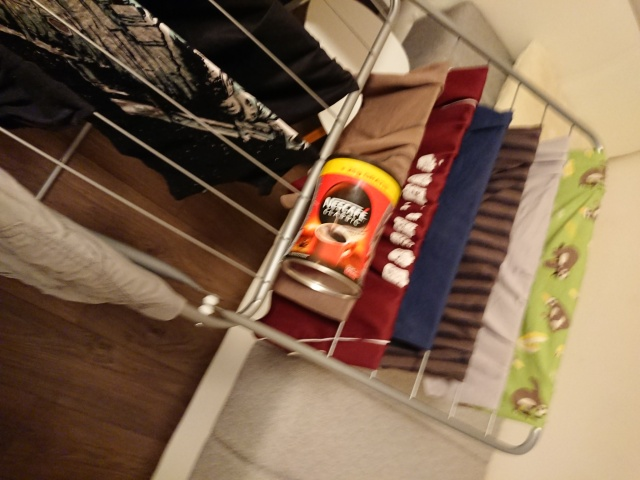Nescafe Classic 225g: (278, 151, 405, 303)
